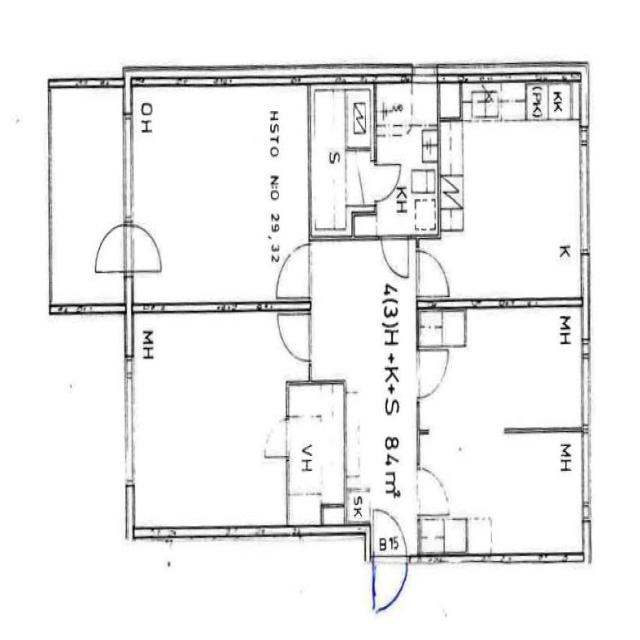door: (369, 132, 426, 215), (370, 506, 409, 617), (127, 219, 166, 276), (273, 243, 312, 300), (91, 219, 129, 277), (414, 345, 452, 402), (414, 464, 452, 520), (416, 245, 452, 302), (275, 308, 312, 363), (366, 157, 402, 205), (380, 232, 410, 282), (260, 416, 291, 461)
window: (119, 357, 141, 492), (116, 107, 138, 225), (573, 137, 594, 257), (499, 546, 571, 571), (576, 429, 594, 520), (576, 297, 592, 353), (121, 309, 136, 364)
zone: (126, 85, 308, 309), (132, 312, 288, 532), (438, 109, 588, 305), (427, 308, 588, 435), (425, 432, 587, 557), (49, 85, 126, 306), (374, 83, 440, 236), (309, 84, 372, 238), (287, 380, 346, 529), (370, 504, 409, 618)
